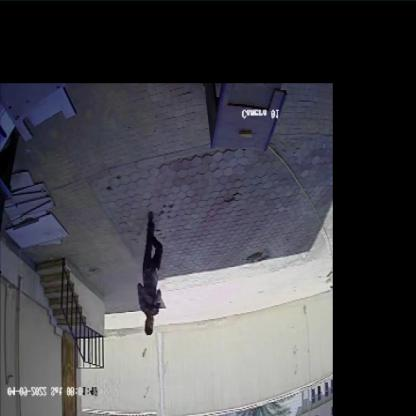handgun: (142, 292, 165, 312)
